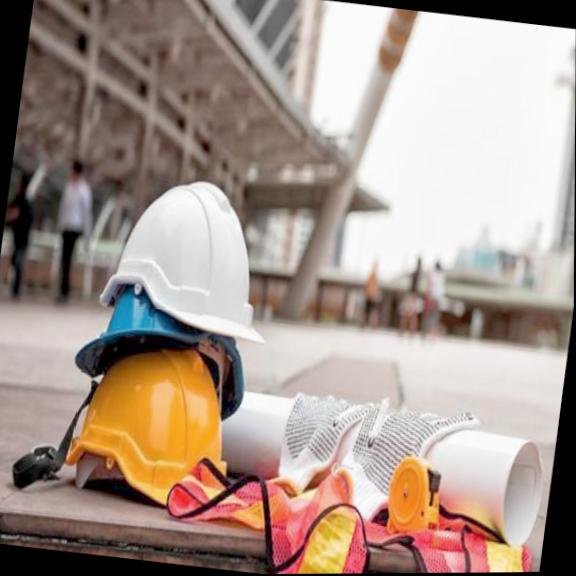safety_vest: (154, 444, 543, 575)
